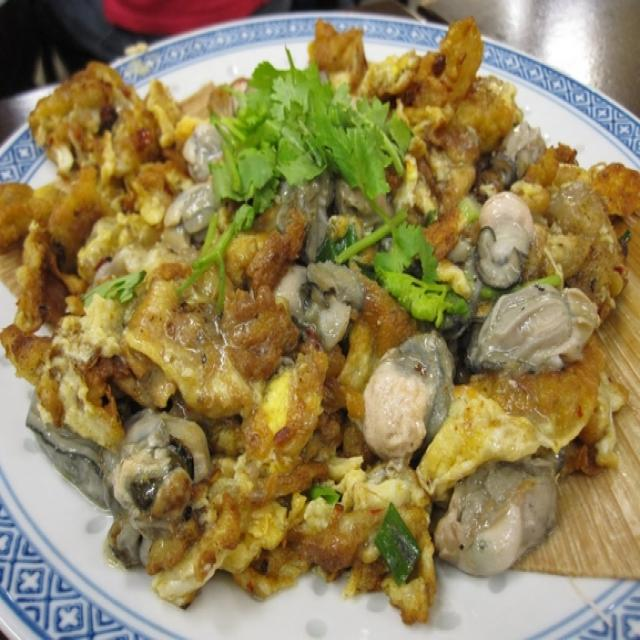熟制海鲜: (11, 13, 636, 624)
